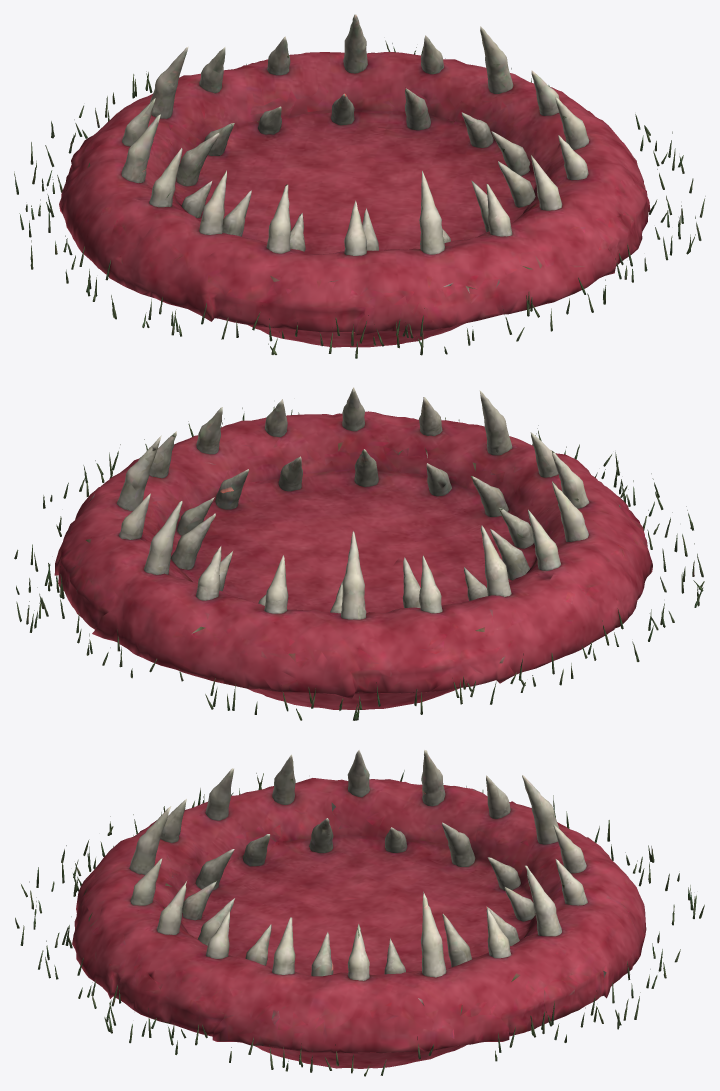
Rendered from lawn_maw.glb.
3 renders of one model, top to bottom at view 1: azimuth 30°, elevation 25°; view 2: azimuth 150°, elevation 25°; view 3: azimuth 270°, elevation 25°, orthographic. The views are drawn at different scales.
Parts seen in each view (by area): view 1: Maw_Gums, Maw_Teeth, Torn_Grass; view 2: Maw_Gums, Maw_Teeth, Torn_Grass; view 3: Maw_Gums, Maw_Teeth, Torn_Grass.
Boxes of the visible parts, bbox=[...] form: Maw_Gums: bbox=[59, 52, 650, 347]; Maw_Teeth: bbox=[121, 14, 589, 255]; Torn_Grass: bbox=[14, 40, 705, 358]; Maw_Gums: bbox=[54, 411, 652, 709]; Maw_Teeth: bbox=[117, 387, 589, 619]; Torn_Grass: bbox=[14, 406, 704, 720]; Maw_Gums: bbox=[72, 778, 646, 1068]; Maw_Teeth: bbox=[129, 750, 587, 980]; Torn_Grass: bbox=[15, 770, 704, 1076].
Size of the model in its own units: 2.96 by 1.14 by 3.01.
Materials: 1 (1 with a texture image).
